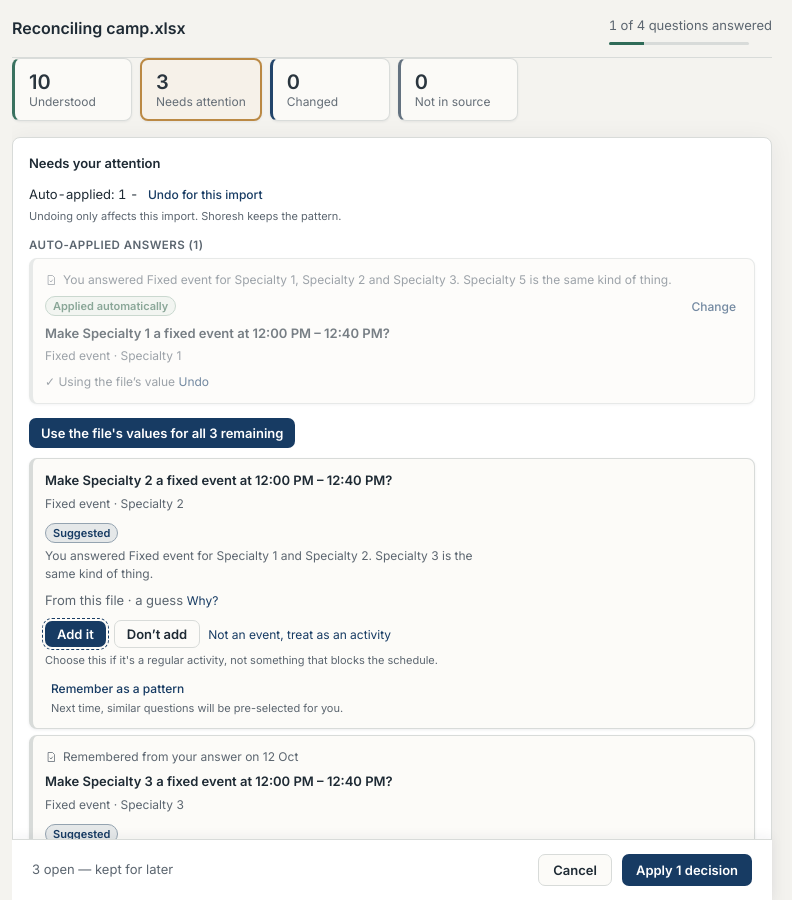
it: only what the store marks autoApply is applied › Undo for this import returns exactly those cards to unanswered and suppresses them in the next recall
Click the button "Undo for this import" at (205, 194), box [142, 183, 268, 206]
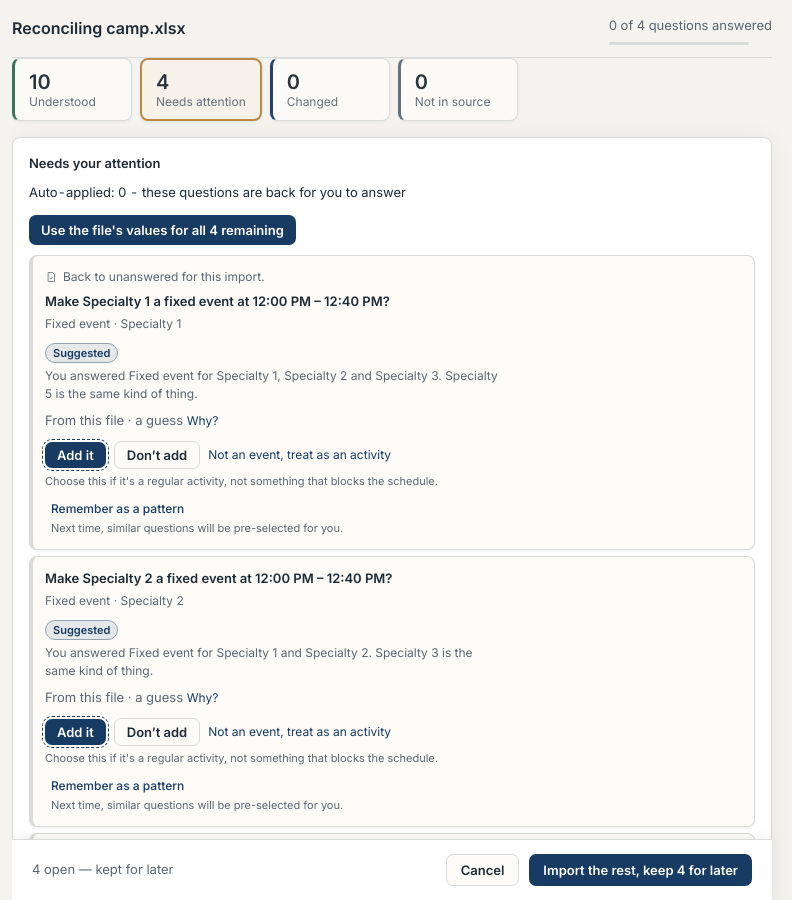
Now the text "Auto-applied: 0 - these questions are back for you to answer" is shown, box [29, 183, 406, 202]
Now the text "0 of 4 questions answered" is shown, box [609, 16, 772, 36]
